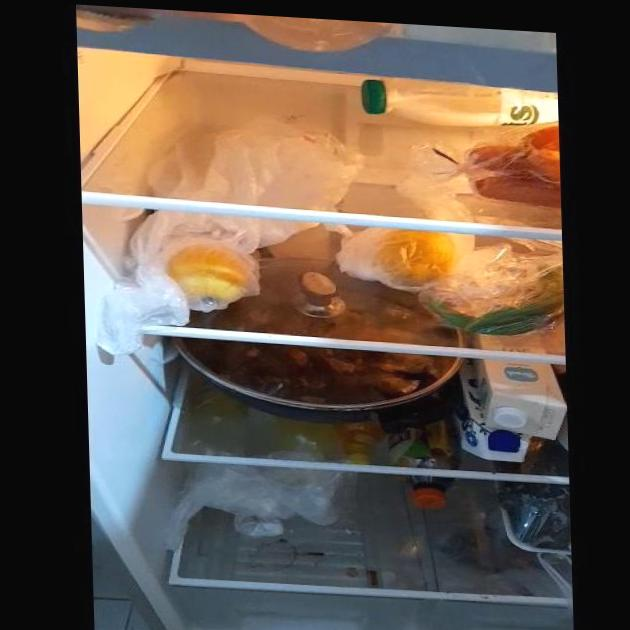green chilies: (412, 289, 561, 338)
lemon: (167, 240, 250, 308), (377, 225, 456, 286)
milk: (461, 357, 561, 462)
